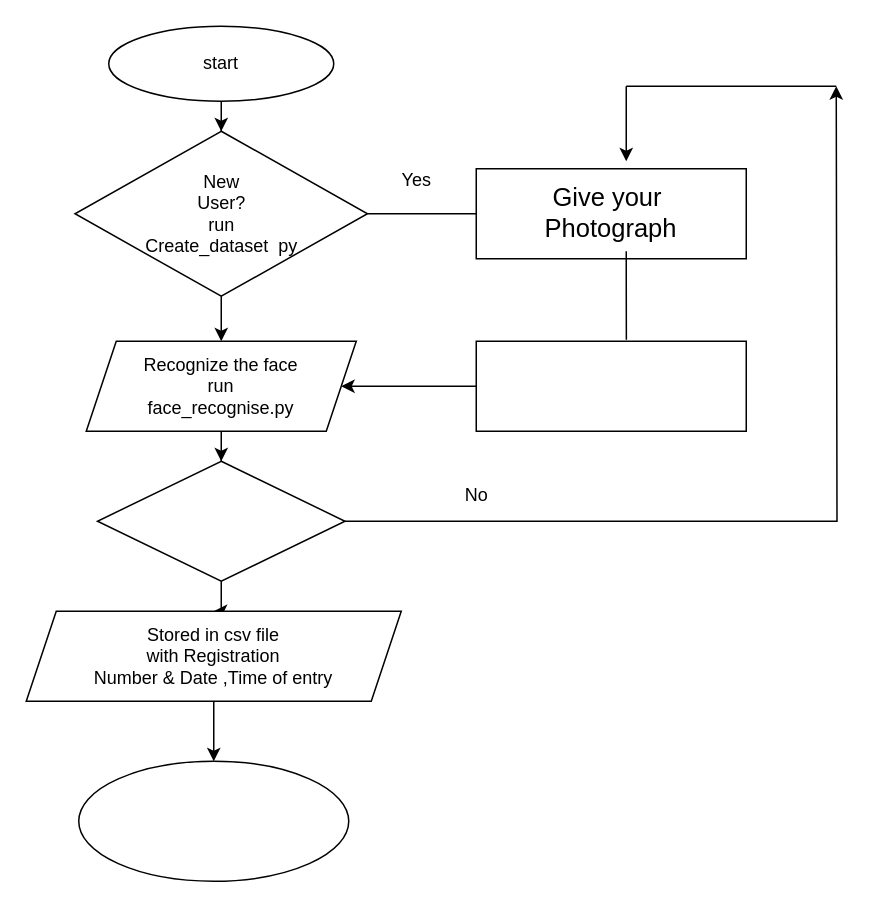
Some shapes in this 876 by 908 pixel diagram are drawn without their labels. The shapes that lost their labels are listed below. From the top down, each one's centre as x and y in pixels, then its label:
[610,385]: Store the face data in folder on your name
[220,520]: Face Recognized
[213,820]: End
